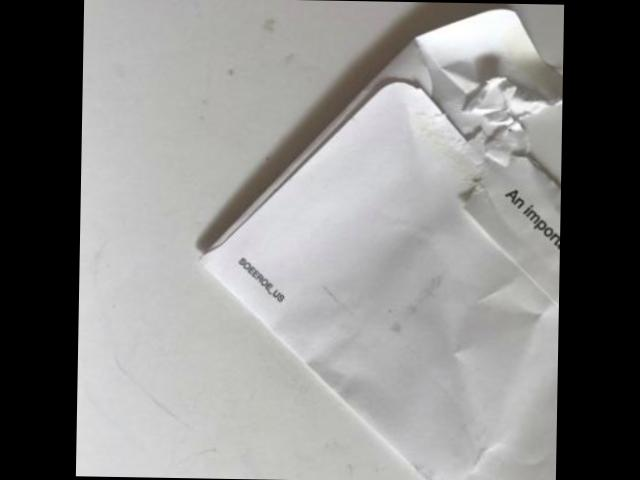cardboard paper: (201, 11, 558, 480)
